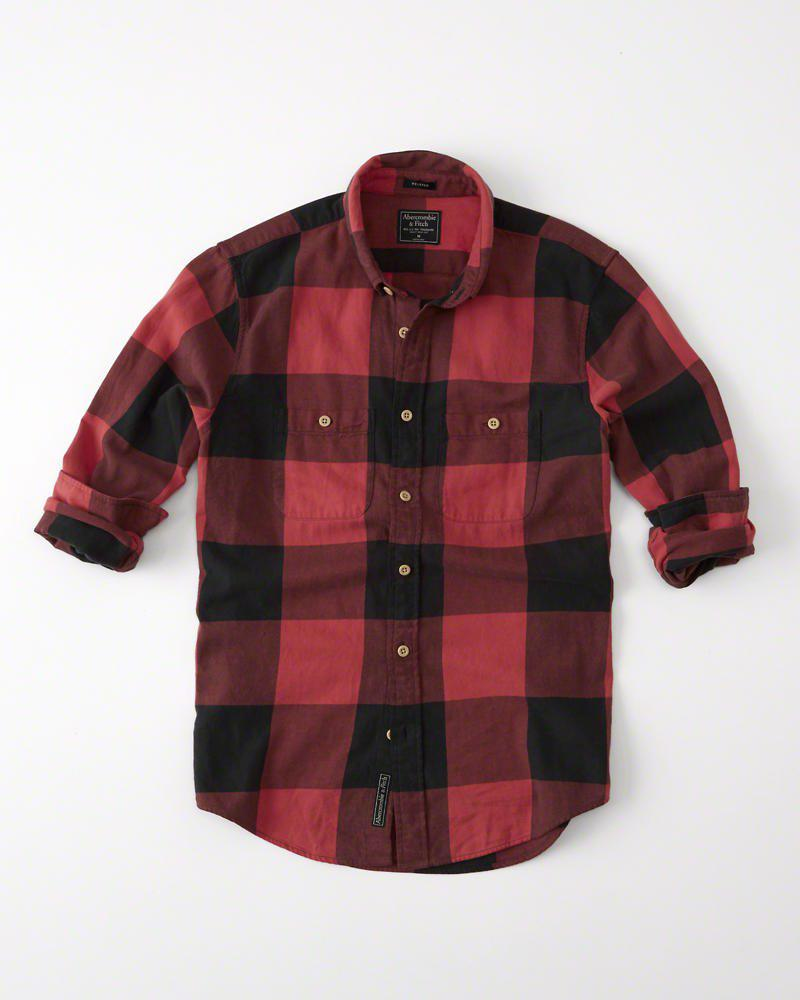teeshirt: (26, 146, 767, 900)
